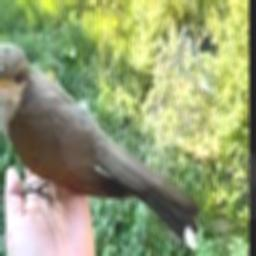Cuckoo: (0, 43, 199, 250)
